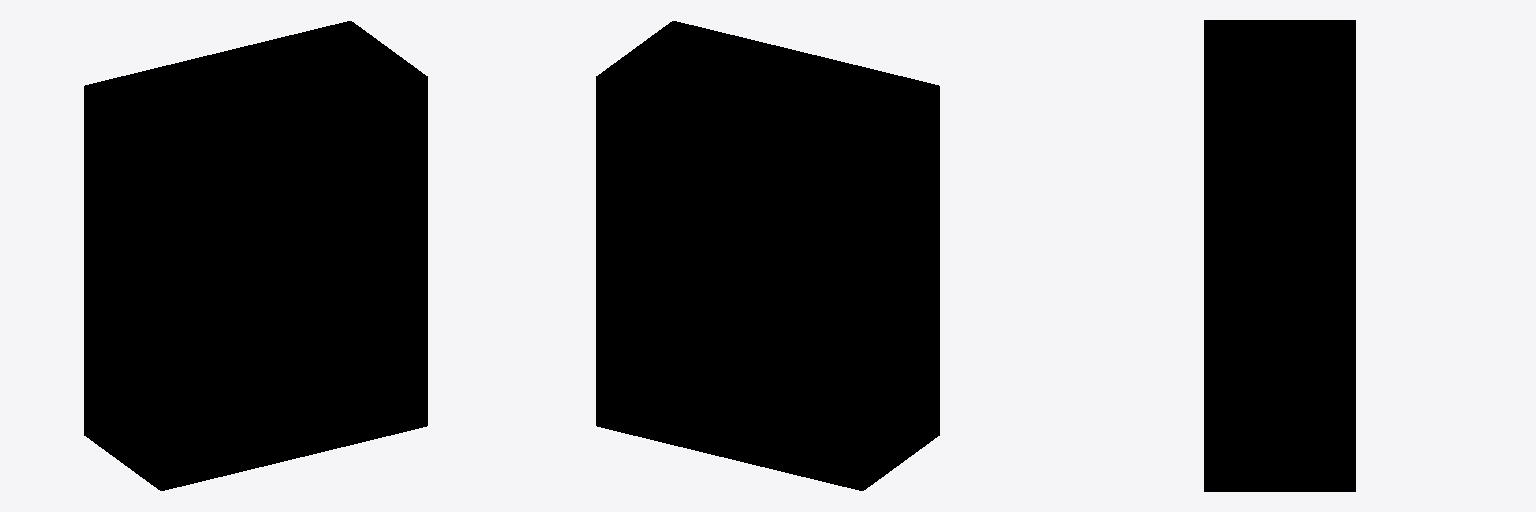
The robot description file, URDF, robot "lite6_normal_parallel_gripper":
<?xml version="1.0" ?>

<robot name="lite6_normal_parallel_gripper">

  <material name="Black">
    <color rgba="0.0 0.0 0.0 1.0"/>
  </material>
  <material name="White">
    <color rgba="1.0 1.0 1.0 1.0"/>
  </material>

  <link name="lite6_normal_parallel_gripper_link">
    <inertial>
      <origin rpy="0 0 0" xyz="0.0 0.0 0.030"/>
      <mass value="0.28"/>
      <inertia ixx="0.00047106" ixy="3.9292E-07" ixz="2.6537E-06" iyy="0.00033072" iyz="-1.0975E-05" izz="0.00025642"/>
    </inertial>
    <visual>
      <geometry>
        <mesh filename="package://lite6_description/meshes/gripper/visual/parallel_gripper_base.obj"/>
      </geometry>
      <origin rpy="0 0 0" xyz="0 0 0"/>
      <material name="White"/>
    </visual>
    <collision>
      <geometry>
        <mesh filename="package://lite6_description/meshes/gripper/collision/parallel_gripper/parallel_gripper_cylinder1.obj"/>
      </geometry>
      <origin rpy="0 0 0" xyz="0 0 0"/>
    </collision>
    <collision>
      <geometry>
        <mesh filename="package://lite6_description/meshes/gripper/collision/parallel_gripper/parallel_gripper_ellipse1.obj"/>
      </geometry>
      <origin rpy="0 0 0" xyz="0 0 0"/>
    </collision>
  </link>

  <!--
    Designing the parallel prismatic joint actuated grippers as boxes.
    Each box is 2.5 cm tall, 2 cm wide and 0.5 cm thick.
    For the normal configuration, when closed, the distance 0 cm (touching).
    When open, the distance is 1.6 cm (As confirmed by the robot specs)
    Note that we also have to account for the thickness of the parallel blocks when setting up the joint origins.
    Do the math.
  -->

  <link name="left_parallel_gripper">
    <inertial>
      <mass value = "0.005"/>
      <origin rpy="0 0 0" xyz="0 0 0.0125"/>
      <inertia ixx="0.00000027" ixy="0" ixz="0" iyy="0.000000427" iyz="0" izz="0.000000177"/>
    </inertial>
    <collision>
      <geometry>
        <box size="0.02 0.005 0.025"/>
      </geometry>
      <origin rpy="0 0 0" xyz="0 0 0.0125"/>
    </collision>
    <visual>
      <geometry>
        <box size="0.02 0.005 0.025"/>
      </geometry>
      <origin rpy="0 0 0" xyz="0 0 0.0125"/>
      <material name="Black"/>
    </visual>
  </link>

  <link name="right_parallel_gripper">
    <inertial>
      <mass value = "0.005"/>
      <origin rpy="0 0 0" xyz="0 0 0.0125"/>
      <inertia ixx="0.00000027" ixy="0" ixz="0" iyy="0.000000427" iyz="0" izz="0.000000177"/>
    </inertial>
    <collision>
      <geometry>
        <box size="0.02 0.005 0.025"/>
      </geometry>
      <origin rpy="0 0 0" xyz="0 0 0.0125"/>
    </collision>
    <visual>
      <geometry>
        <box size="0.02 0.005 0.025"/>
      </geometry>
      <origin rpy="0 0 0" xyz="0 0 0.0125"/>
      <material name="Black"/>
    </visual>
  </link>

  <joint name="left_parallel_gripper_joint" type="prismatic">
    <parent link="lite6_normal_parallel_gripper_link"/>
    <child link="left_parallel_gripper"/>
    <axis xyz="0 1 0"/>
    <limit effort="100.0" lower="0" upper="0.008" velocity="0.01"/>
    <origin rpy="0 0 0" xyz="0 0.0025 0.0586"/>
  </joint>

  <joint name="right_parallel_gripper_joint" type="prismatic">
    <parent link="lite6_normal_parallel_gripper_link"/>
    <child link="right_parallel_gripper"/>
    <axis xyz="0 1 0"/>
    <limit effort="100.0" lower="-0.008" upper="0." velocity="0.01"/>
    <!-- Could use a mimic joint here optionally
    <mimic joint="left_paralle_gripper_joint" multiplier="-1." offset="0"/>
    -->
    <origin rpy="0 0 0" xyz="0 -0.0025 0.0586"/>
  </joint>

  <link name="link_eef_tip"/>

  <joint name="joint_eef_tip" type="fixed">
    <origin rpy="0 0 0" xyz="0 0 0.0836"/>
    <parent link="lite6_normal_parallel_gripper_link"/>
    <child link="link_eef_tip"/>
  </joint>
  
</robot>

--- Facts derived from the render (not from the file) ---
3 views of the same robot in one strip: view 1: azimuth 30°, elevation 25°; view 2: azimuth 150°, elevation 25°; view 3: azimuth 270°, elevation 25° (orthographic).
Model lite6_normal_parallel_gripper with 4 links and 3 joints (2 prismatic, 1 fixed), rooted at lite6_normal_parallel_gripper_link, posed all joints at 0.
Visible links, largest first — view 1: right_parallel_gripper, left_parallel_gripper; view 2: left_parallel_gripper, right_parallel_gripper; view 3: left_parallel_gripper, right_parallel_gripper.
Boxes of the visible links, x1,y1,x2,y2 form: right_parallel_gripper: (122, 49, 427, 490); left_parallel_gripper: (84, 21, 388, 462); left_parallel_gripper: (596, 49, 901, 490); right_parallel_gripper: (635, 21, 939, 462); left_parallel_gripper: (1280, 20, 1355, 491); right_parallel_gripper: (1204, 20, 1279, 491).
Bounding box of the posed robot: 0.02 × 0.01 × 0.025 m (x, y, z).
Meshes: 1 distinct files referenced, 0 mesh visuals loaded (none loaded); not drawn: 1 (reference not matched to a file when rendering).
